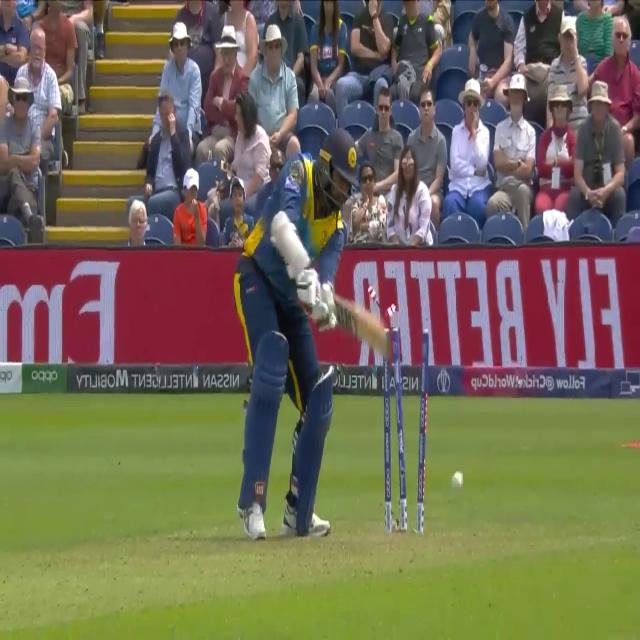ball: (448, 463, 464, 502)
